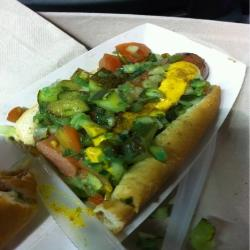hotdog: (43, 54, 215, 212)
